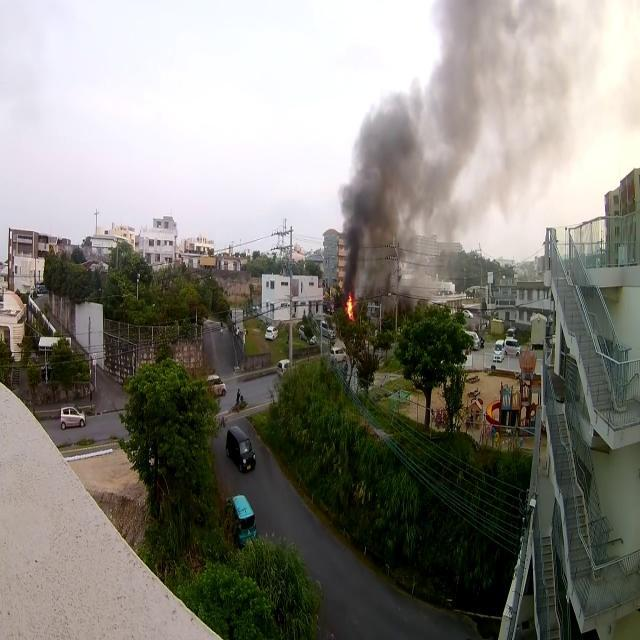Fire: (345, 295, 356, 318)
